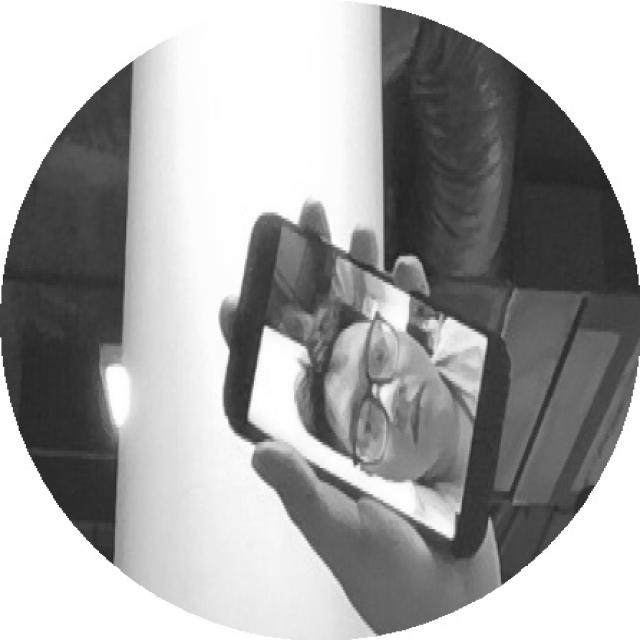fake: (170, 205, 546, 567), (189, 205, 525, 566)
